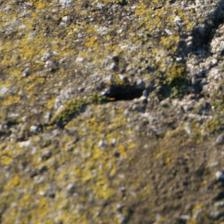Crack: (12, 8, 210, 132)
